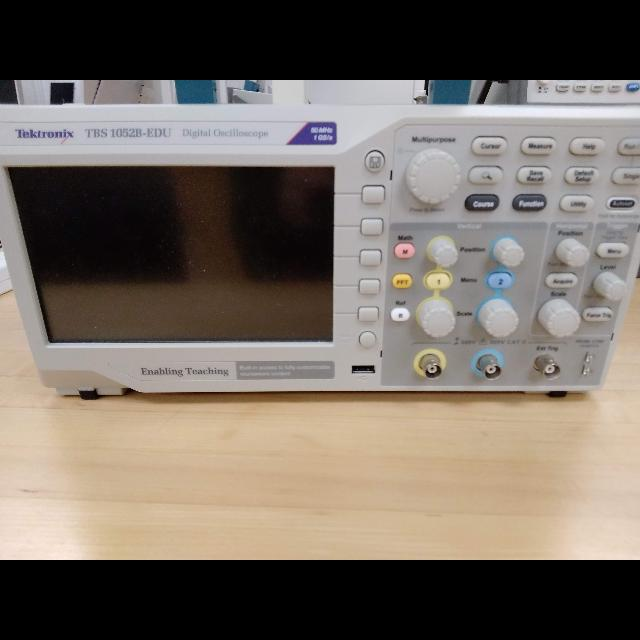Digital-Oscilloscope: (0, 99, 640, 391)
